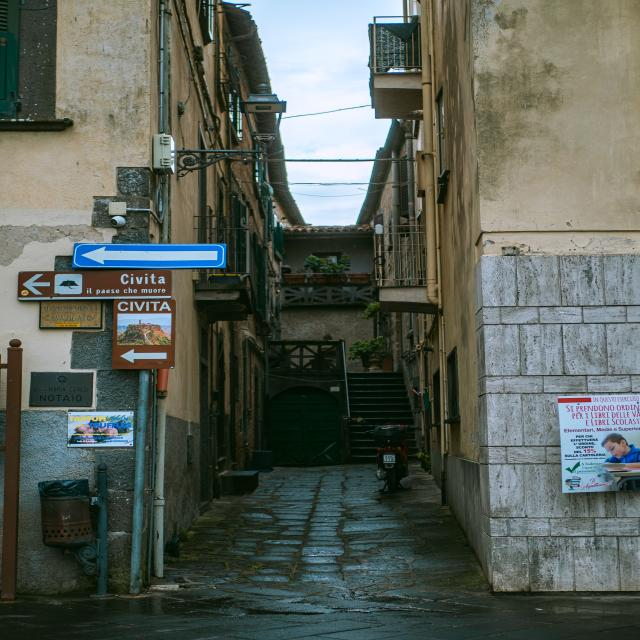building: (0, 0, 274, 597), (380, 0, 640, 592), (271, 223, 414, 460)
